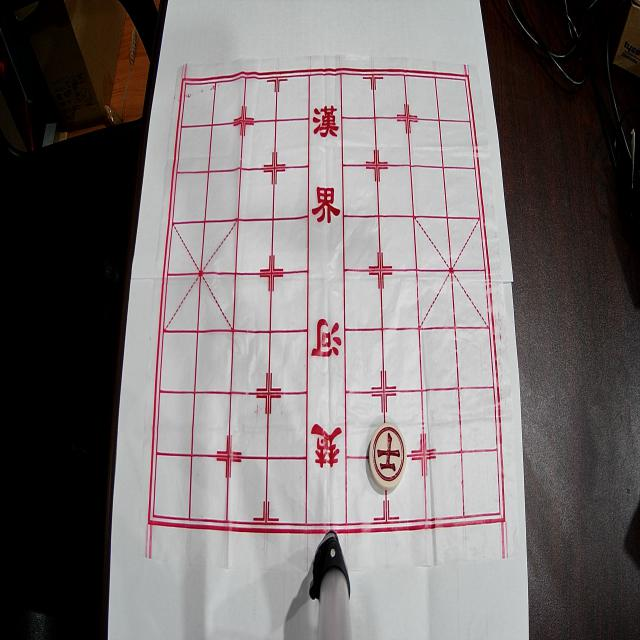red-guard: (369, 422, 407, 490)
